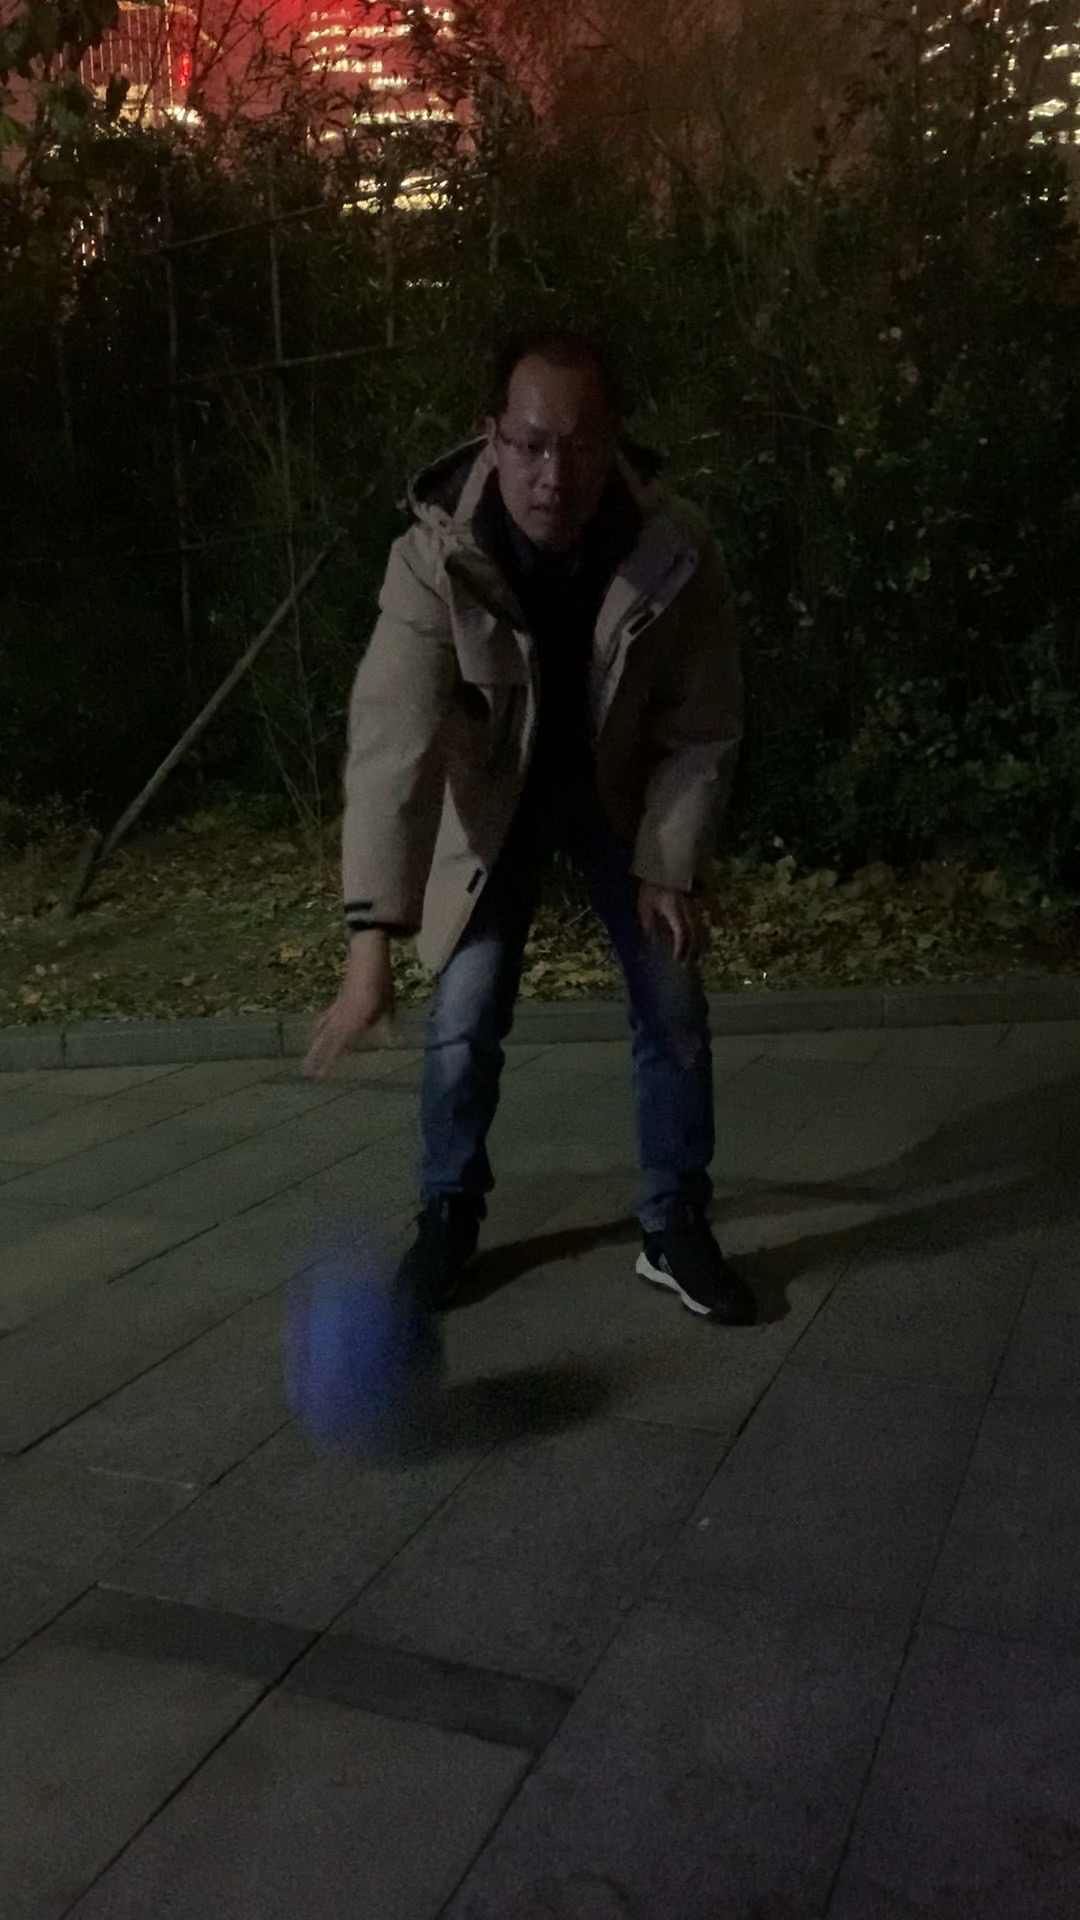ball: (280, 1288, 454, 1455)
